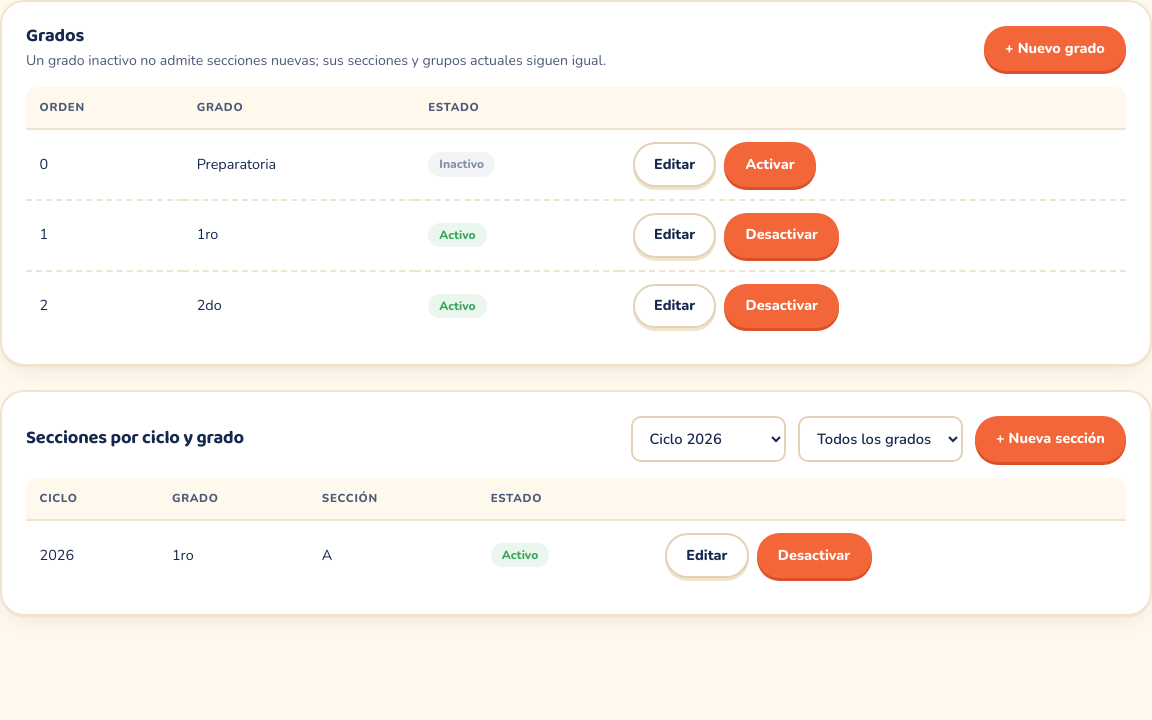
Test case: SeccionesAdmin: grados y ciclo escolar › deactivates a grado through the API
This screenshot has width=1152, height=720.
Expected: the heading "Grados" is shown, x1=26 y1=21 x2=84 y2=51
Click the button "Desactivar" in the row of "2do": click(782, 306) x1=724 y1=284 x2=839 y2=328
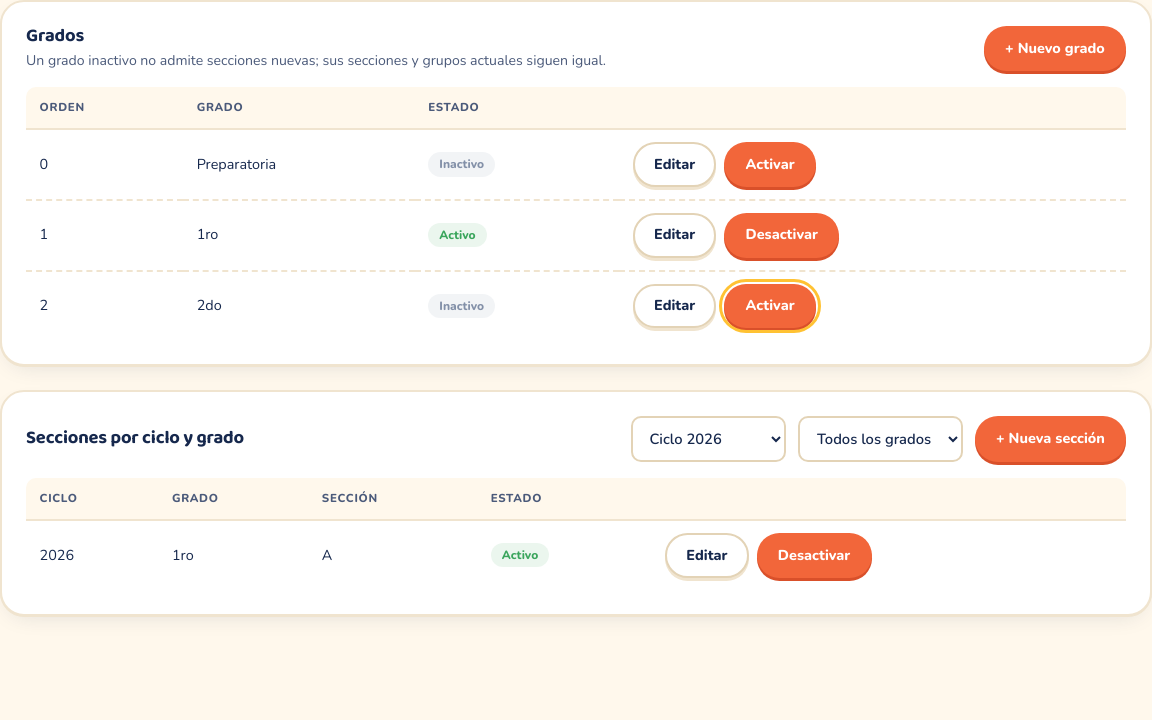
Expected: the text "Inactivo" in the row of "2do" is shown, x1=439 y1=298 x2=484 y2=314
